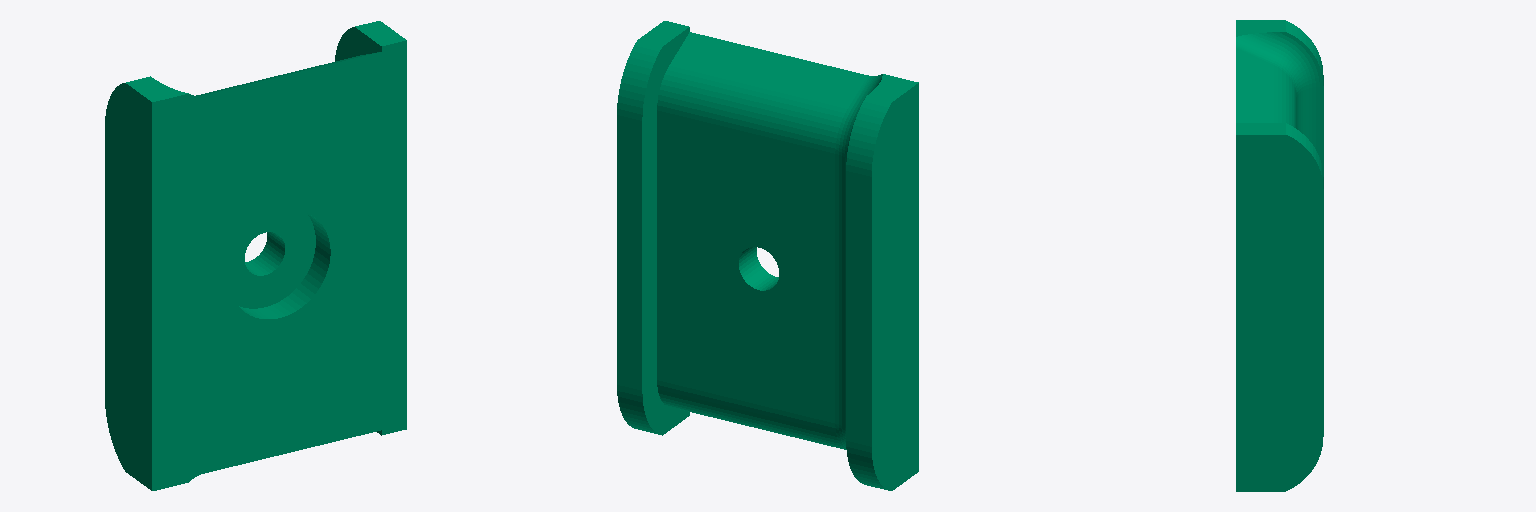
The robot description file, URDF, robot "Rope_joint":
<?xml version='1.0' encoding='utf-8'?>
<robot name="Rope_joint">
    <link name="Joint">
        <inertial>
            <origin xyz="7.1639616909588185e-06 -0.00616114041282696 0.010283924884042962" rpy="0.0 -0.0 0.0" />
            <mass value="0.9819884881906905" />
            <inertia ixx="0.0005938487526790243" iyy="0.0010440299884710087" izz="0.001569143556583925" ixy="-2.544528780305602e-07" iyz="2.5450084101372593e-05" ixz="1.9763914161810537e-09" />
        </inertial>
        <visual name="Joint_visual">
            <origin xyz="1.0505147862716058e-11 -0.10999999836087153 0.010000000000000009" rpy="3.141592653589793 -1.5707963267948966 0" />
            <geometry>
                <mesh filename="package://moveit_bot_rope_joint_description/meshes/Joint.stl" scale="0.001 0.001 0.001" />
            </geometry>
        </visual>
        <collision name="Joint_collision">
            <origin xyz="1.0505147862716058e-11 -0.10999999836087153 0.010000000000000009" rpy="3.141592653589793 -1.5707963267948966 0" />
            <geometry>
                <mesh filename="package://moveit_bot_rope_joint_description/meshes/Joint.stl" scale="0.001 0.001 0.001" />
            </geometry>
        </collision>
    </link>
    <link name="Joint_M">
        <inertial>
            <origin xyz="-0.0002839247464924666 -0.006161159613505424 7.145082342513579e-06" rpy="0.0 0.0 0.0" />
            <mass value="0.9819872908083896" />
            <inertia ixx="0.0015691400990050248" iyy="0.0010440284532366188" izz="0.0005938467225559531" ixy="-2.54501738942687e-05" iyz="-2.5368626355909854e-07" ixz="-2.0433730024363433e-09" />
        </inertial>
        <visual name="Joint_M_visual">
            <origin xyz="0.0 0.0 0.0" rpy="0.0 0.0 0.0" />
            <geometry>
                <mesh filename="package://moveit_bot_rope_joint_description/meshes/Joint_M.stl" scale="0.001 0.001 0.001" />
            </geometry>
        </visual>
        <collision name="Joint_M_collision">
            <origin xyz="0.0 0.0 0.0" rpy="0.0 0.0 0.0" />
            <geometry>
                <mesh filename="package://moveit_bot_rope_joint_description/meshes/Joint_M.stl" scale="0.001 0.001 0.001" />
            </geometry>
        </collision>
    </link>
    <link name="Rope_tensioner">
        <inertial>
            <origin xyz="-8.783161725155253e-05 -9.00348291311487e-05 0.005958148218763366" rpy="0.0 -0.0 0.0" />
            <mass value="0.019469218394604033" />
            <inertia ixx="1.2630260627541595e-06" iyy="8.273092067556426e-07" izz="1.999244652888628e-06" ixy="7.119441108363404e-12" iyz="9.147880231374764e-11" ixz="-2.9388098658453035e-09" />
        </inertial>
        <visual name="Rope_tensioner_visual">
            <origin xyz="2.997602166487923e-17 -7.171435035917274e-10 -0.13596549836087213" rpy="-1.5707963267948974 1.7648320476285669e-19 -4.930380657631324e-32" />
            <geometry>
                <mesh filename="package://moveit_bot_rope_joint_description/meshes/Rope_tensioner.stl" scale="0.001 0.001 0.001" />
            </geometry>
        </visual>
        <collision name="Rope_tensioner_collision">
            <origin xyz="2.997602166487923e-17 -7.171435035917274e-10 -0.13596549836087213" rpy="-1.5707963267948974 1.7648320476285669e-19 -4.930380657631324e-32" />
            <geometry>
                <mesh filename="package://moveit_bot_rope_joint_description/meshes/Rope_tensioner.stl" scale="0.001 0.001 0.001" />
            </geometry>
        </collision>
    </link>
    <link name="cONNECTOR">
        <inertial>
            <origin xyz="-5.2555502308719224e-12 -0.05506576329366768 0.001979143302621327" rpy="0.0 -0.0 0.0" />
            <mass value="0.06391965649415227" />
            <inertia ixx="9.962063520082333e-05" iyy="1.189003953376829e-06" izz="0.00010002310597693483" ixy="9.437422509105186e-15" iyz="2.186774416480428e-09" ixz="9.707113252093717e-20" />
        </inertial>
        <visual name="cONNECTOR_visual">
            <origin xyz="-2.6645352591003756e-17 0.0 -0.010000000000000005" rpy="-4.930380657631324e-32 1.5707963267948966 0" />
            <geometry>
                <mesh filename="package://moveit_bot_rope_joint_description/meshes/cONNECTOR.stl" scale="0.001 0.001 0.001" />
            </geometry>
        </visual>
        <collision name="cONNECTOR_collision">
            <origin xyz="-2.6645352591003756e-17 0.0 -0.010000000000000005" rpy="-4.930380657631324e-32 1.5707963267948966 0" />
            <geometry>
                <mesh filename="package://moveit_bot_rope_joint_description/meshes/cONNECTOR.stl" scale="0.001 0.001 0.001" />
            </geometry>
        </collision>
    </link>
    <link name="Joint-1">
        <inertial>
            <origin xyz="-0.029992836038309156 -0.016161140412826888 0.010283924884042915" rpy="0.0 -0.0 0.0" />
            <mass value="0.9819884881906905" />
            <inertia ixx="0.0005938487526790555" iyy="0.0010440299884710126" izz="0.0015691435565837169" ixy="-2.5445287799047937e-07" iyz="2.5450084101380586e-05" ixz="1.9763914173894405e-09" />
        </inertial>
        <visual name="Joint-1_visual">
            <origin xyz="-0.02999999998949533 -0.11999999836087165 0.009999999999999946" rpy="-3.141592653589793 -1.5707963267948961 0" />
            <geometry>
                <mesh filename="package://moveit_bot_rope_joint_description/meshes/Joint-1.stl" scale="0.001 0.001 0.001" />
            </geometry>
        </visual>
        <collision name="Joint-1_collision">
            <origin xyz="-0.02999999998949533 -0.11999999836087165 0.009999999999999946" rpy="-3.141592653589793 -1.5707963267948961 0" />
            <geometry>
                <mesh filename="package://moveit_bot_rope_joint_description/meshes/Joint-1.stl" scale="0.001 0.001 0.001" />
            </geometry>
        </collision>
    </link>
    <link name="Joint_M-1">
        <inertial>
            <origin xyz="0.03000714508234241 0.01616115961350538 0.009716075253507529" rpy="0.0 -0.0 0.0" />
            <mass value="0.9819872908083896" />
            <inertia ixx="0.000593846722555947" iyy="0.0010440284532366136" izz="0.00156914009900503" ixy="2.536862635589029e-07" iyz="2.5450173894266942e-05" ixz="-2.043373002773229e-09" />
        </inertial>
        <visual name="Joint_M-1_visual">
            <origin xyz="0.029999999999999895 0.00999999999999997 0.01" rpy="-3.141592653589793 -1.5707963267948961 0" />
            <geometry>
                <mesh filename="package://moveit_bot_rope_joint_description/meshes/Joint_M-1.stl" scale="0.001 0.001 0.001" />
            </geometry>
        </visual>
        <collision name="Joint_M-1_collision">
            <origin xyz="0.029999999999999895 0.00999999999999997 0.01" rpy="-3.141592653589793 -1.5707963267948961 0" />
            <geometry>
                <mesh filename="package://moveit_bot_rope_joint_description/meshes/Joint_M-1.stl" scale="0.001 0.001 0.001" />
            </geometry>
        </collision>
    </link>
    <joint name="Joint_M_Rigid-32" type="fixed">
        <origin xyz="0.01 0.01 -0.03" rpy="-3.141592653589793 -1.5707963267948966 0" />
        <parent link="Joint_M" />
        <child link="Joint_M-1" />
    </joint>
    <joint name="Joint_M_Revolute-33" type="continuous">
        <origin xyz="-0.01 0.0 0.0" rpy="-0.0 -1.5707963267948966 0" />
        <parent link="Joint_M" />
        <child link="cONNECTOR" />
        <axis xyz="0.0 0.0 1.0" />
    </joint>
    <joint name="cONNECTOR_Revolute-34" type="continuous">
        <origin xyz="0.0 -0.11 0.0" rpy="-3.141592653589793 2.407412430484045e-35 0.0" />
        <parent link="cONNECTOR" />
        <child link="Joint" />
        <axis xyz="2.407412430484045e-35 8.242280892117934e-36 1.0" />
    </joint>
    <joint name="Joint_Rigid-35" type="fixed">
        <origin xyz="0.03 0.01 0.02" rpy="2.688059641248381e-33 2.407412430484045e-35 1.3363823550460978e-51" />
        <parent link="Joint" />
        <child link="Joint-1" />
    </joint>
    <joint name="Joint_Rigid-36" type="fixed">
        <origin xyz="-8.586999999999999e-05 0.02496549999999999 0.01" rpy="-1.5707963267948966 -1.5707963267948966 0" />
        <parent link="Joint" />
        <child link="Rope_tensioner" />
    </joint>
</robot>

--- Render facts (derived) ---
Views: 3 orthographic renders of the robot side by side, from view 1: azimuth 30°, elevation 25°; view 2: azimuth 150°, elevation 25°; view 3: azimuth 270°, elevation 25°.
Robot: Rope_joint — 6 links, 5 joints (2 continuous, 3 fixed); root link Joint_M; default pose: every joint at zero.
Visible links, largest first — view 1: Rope_tensioner; view 2: Rope_tensioner; view 3: Rope_tensioner.
Boxes of the visible links, x1,y1,x2,y2 form: Rope_tensioner: [105, 21, 406, 490]; Rope_tensioner: [617, 21, 918, 490]; Rope_tensioner: [1236, 20, 1323, 491].
Bounding box of the posed robot: 0.02 × 0.0065 × 0.0292 m (x, y, z).
1 mesh visuals loaded from 6 distinct referenced files (1 binary STL); not drawn: 5 (reference not matched to a file when rendering).